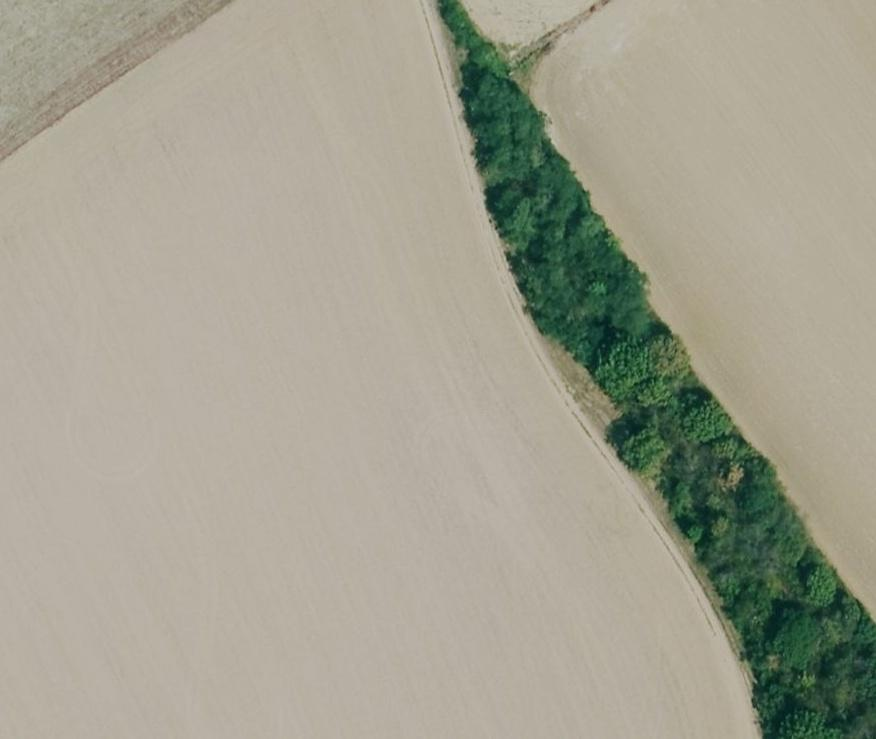field: (0, 0, 756, 736), (465, 0, 876, 619)
forest: (440, 0, 876, 737)
